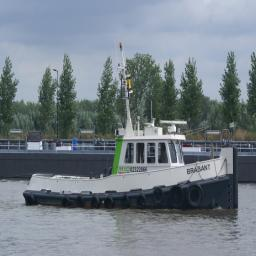tugboat: (21, 42, 241, 216)
